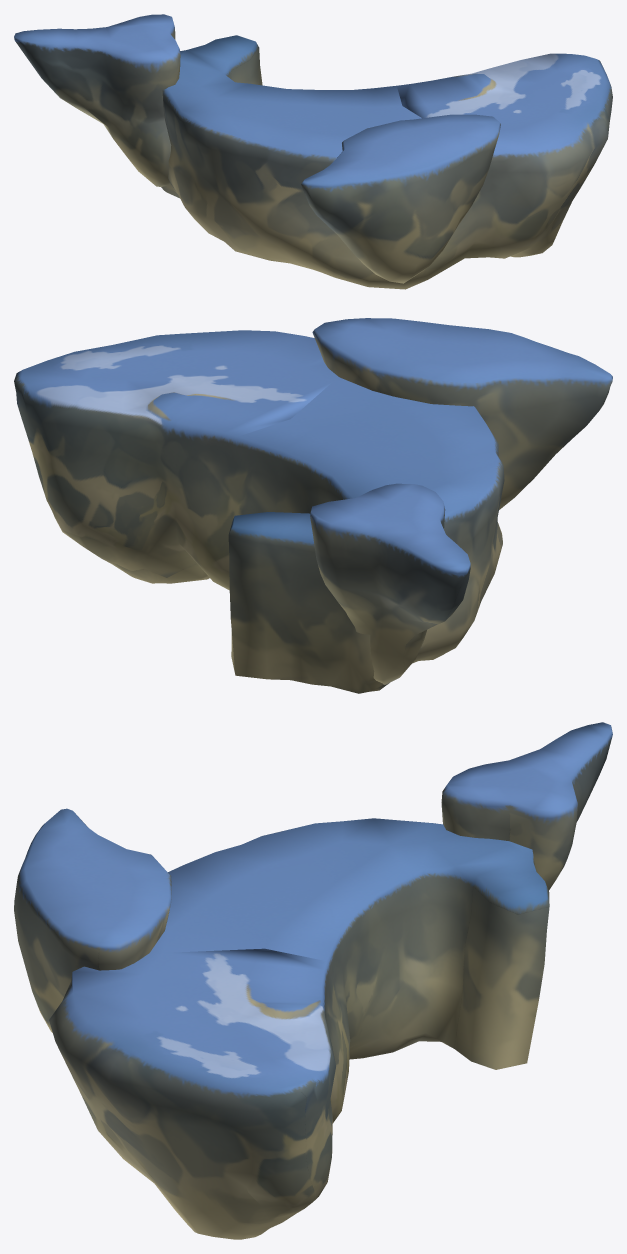
Rendered from terrain_stage05.FBX.
3 views of the same model, one above another, from view 1: azimuth 30°, elevation 25°; view 2: azimuth 150°, elevation 25°; view 3: azimuth 270°, elevation 25° (orthographic). The views are drawn at different scales.
Parts seen in each view (by area): view 1: terrain_stage05; view 2: terrain_stage05; view 3: terrain_stage05.
Part boxes in pixels (x1=…): terrain_stage05: x1=14, y1=14, x2=612, y2=289; terrain_stage05: x1=14, y1=318, x2=612, y2=693; terrain_stage05: x1=14, y1=722, x2=612, y2=1239.
Bounding box in the file's own units: 9439 × 3926 × 7828.
